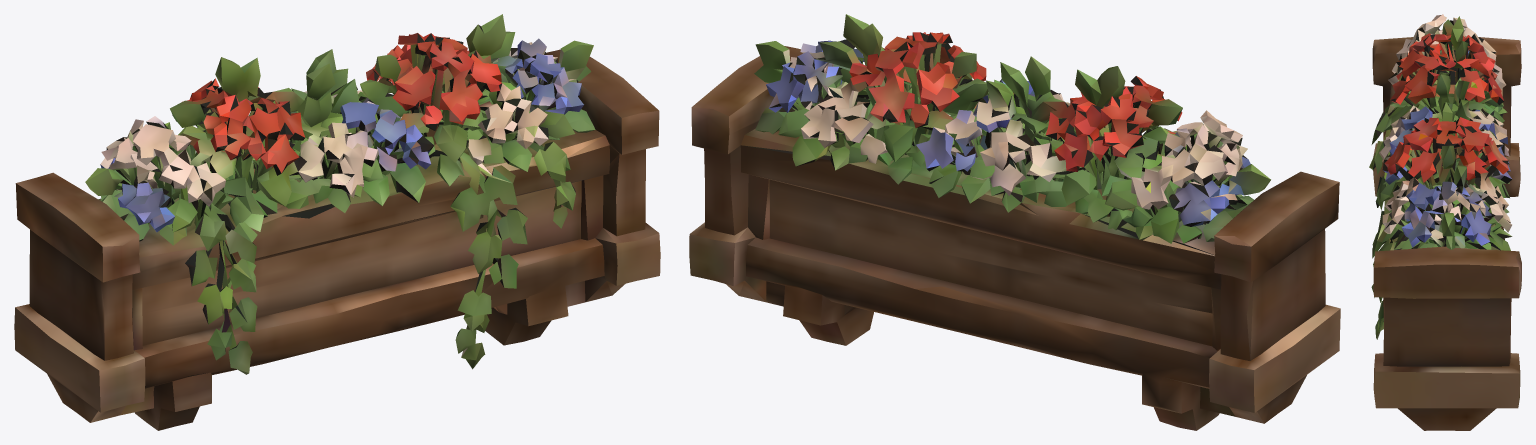
The model's file is FlowerBoxIvy.glb.
The picture shows the model from 3 angles, left to right: view 1: azimuth 30°, elevation 25°; view 2: azimuth 150°, elevation 25°; view 3: azimuth 270°, elevation 25°; orthographic projection. The views are drawn at different scales.
Parts seen in each view (by area): view 1: FlowerBoxIvy; view 2: FlowerBoxIvy; view 3: FlowerBoxIvy.
Part boxes in pixels (box(x1,y1,x2,y2)): FlowerBoxIvy: box(14, 14, 660, 430); FlowerBoxIvy: box(689, 14, 1340, 430); FlowerBoxIvy: box(1369, 14, 1521, 430).
Bounding box in the file's own units: 1.2 × 0.6926 × 0.3355.
Materials: 1 (1 with a texture image).
